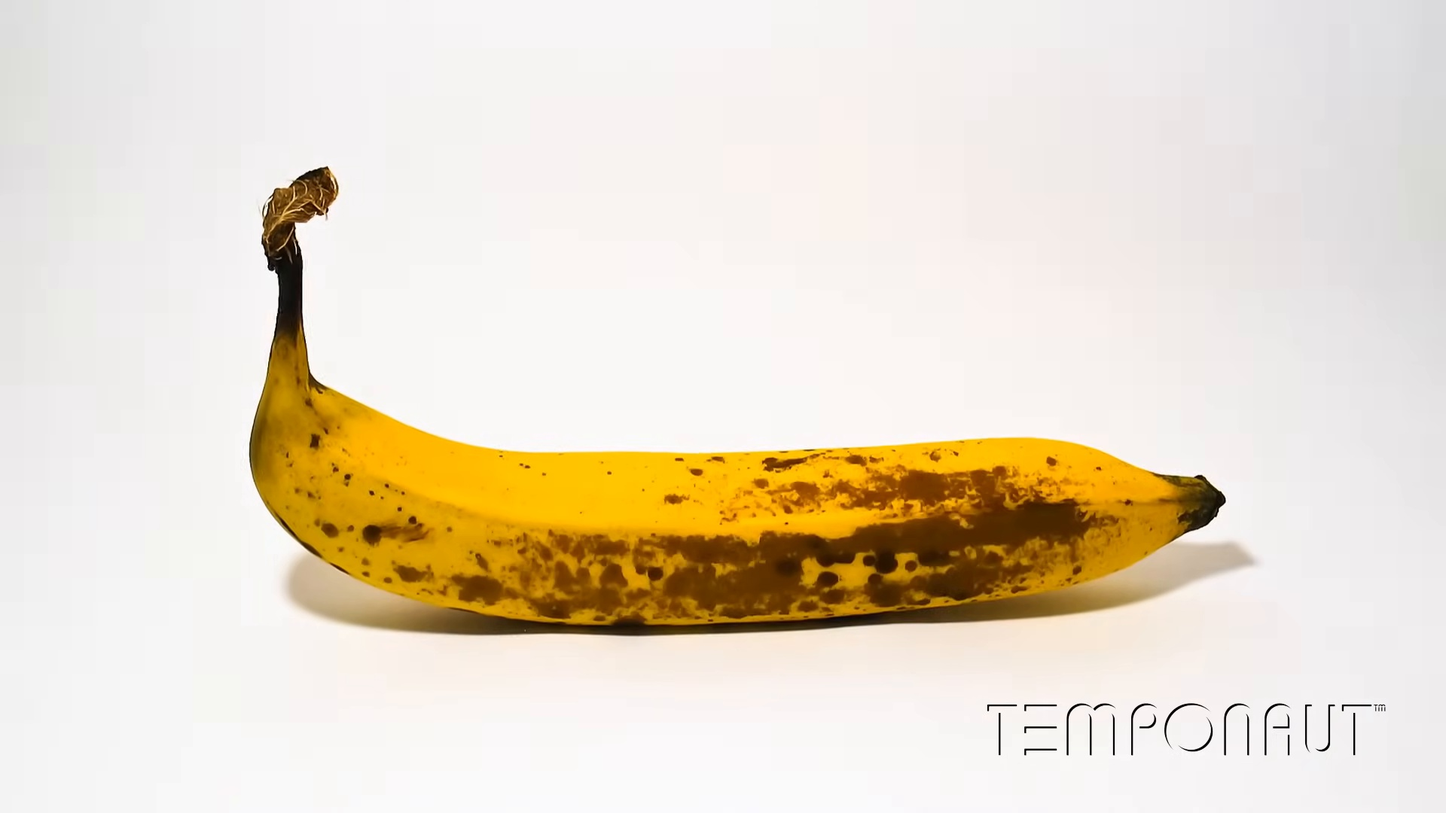banana_rotten: (247, 166, 1228, 630)
